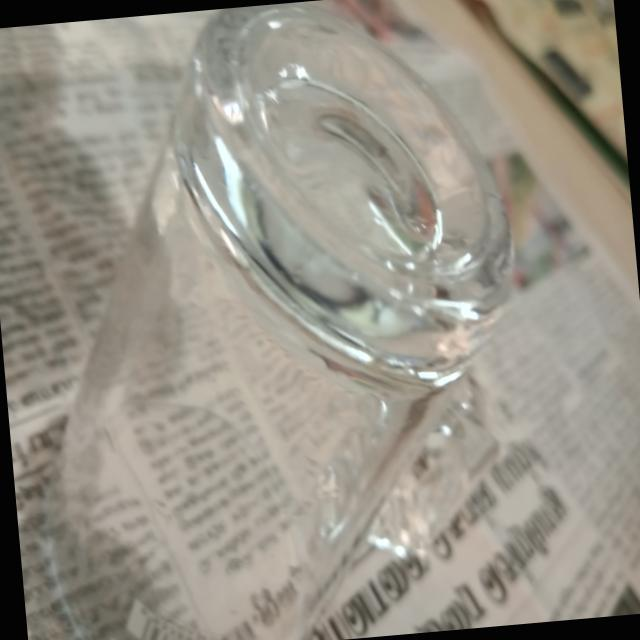glass-VX4N: (1, 0, 543, 640)
